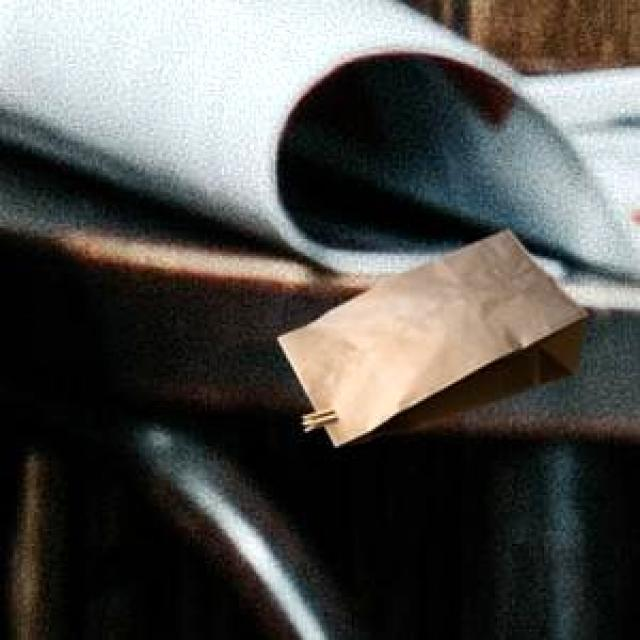Paper_Bag: (276, 227, 584, 443)
